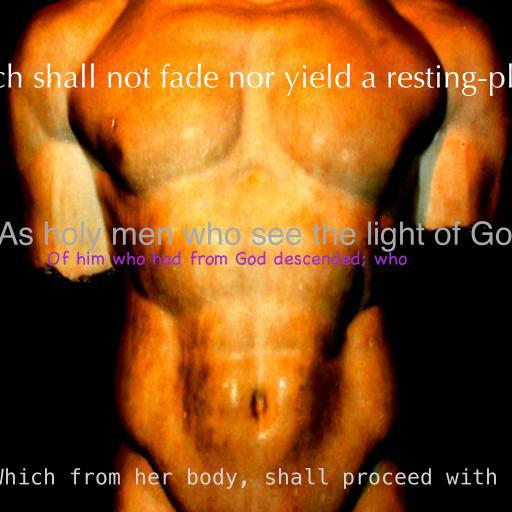Chalkboard: (47, 250, 407, 267)
Menlo: (0, 468, 512, 489)
Optima: (0, 63, 512, 96)
SF Pro: (0, 221, 512, 252)
